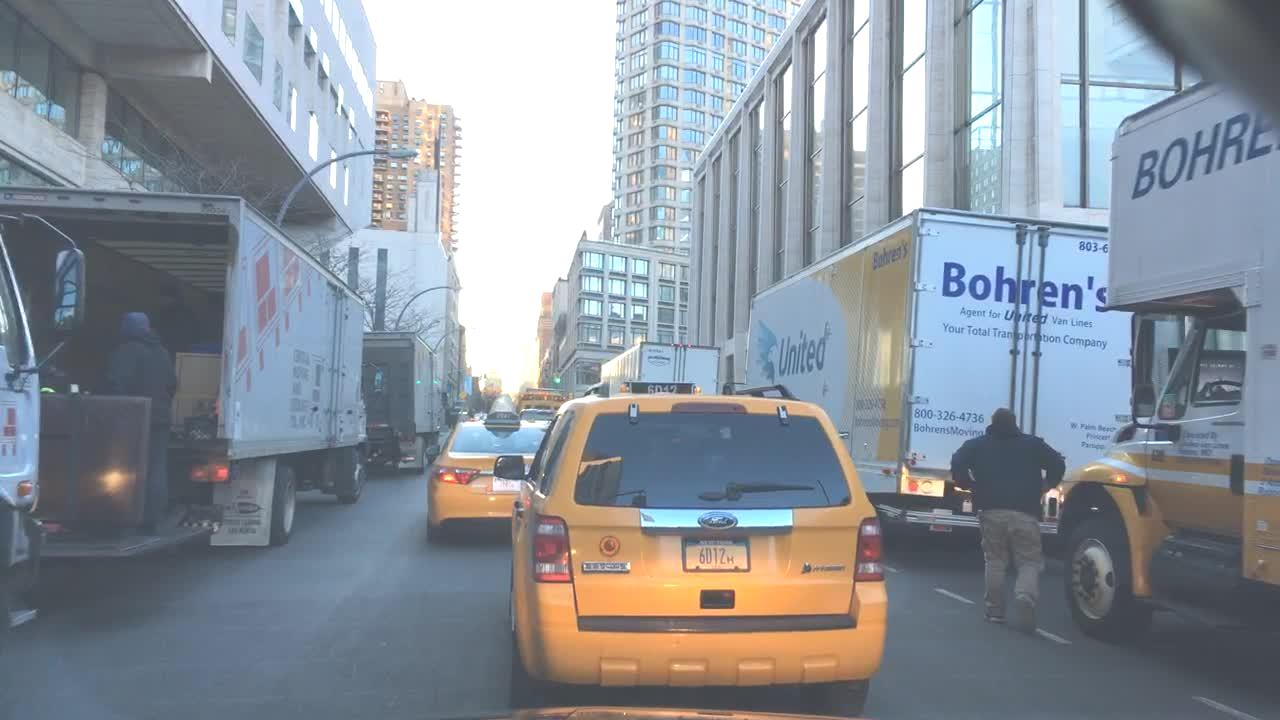ford: (689, 506, 744, 532)
